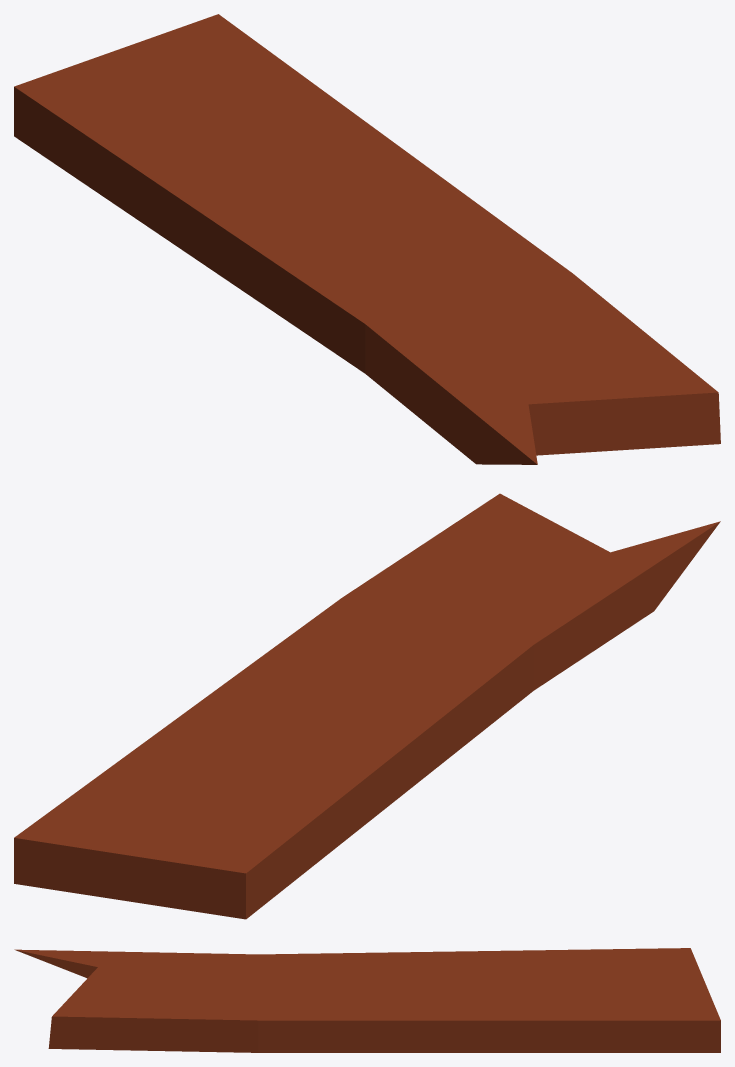
File: BrokenPlanche5.fbx
The picture shows the model from 3 angles, top to bottom: view 1: azimuth 30°, elevation 25°; view 2: azimuth 150°, elevation 25°; view 3: azimuth 270°, elevation 25°; orthographic projection. The views are drawn at different scales.
Visible parts, largest first — view 1: BrokenPlanche.005; view 2: BrokenPlanche.005; view 3: BrokenPlanche.005.
Part boxes in pixels (x1,y1,x2,y2): BrokenPlanche.005: (14,14,720,464); BrokenPlanche.005: (14,493,720,919); BrokenPlanche.005: (14,948,720,1052).
Size of the model in its own units: 185 by 38.61 by 762.
